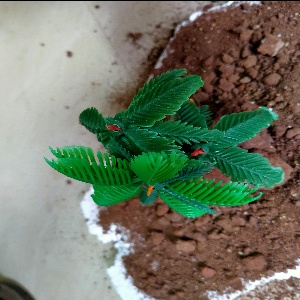plant: (55, 90, 272, 220)
